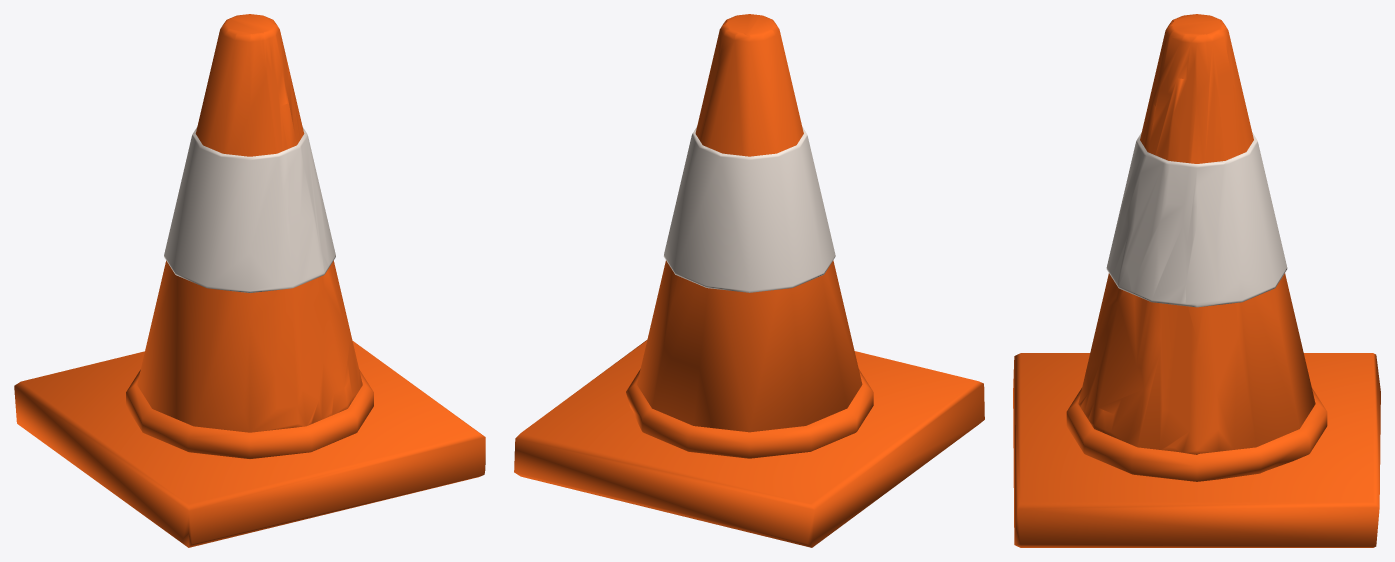
The picture shows the model from 3 angles, left to right: view 1: azimuth 30°, elevation 25°; view 2: azimuth 150°, elevation 25°; view 3: azimuth 270°, elevation 25°; orthographic projection. The views are drawn at different scales.
Visible parts, largest first — view 1: body, object 1; view 2: body, object 1; view 3: body, object 1.
Part boxes in pixels (x1,y1,x2,y2): body: [14, 14, 485, 547]; object 1: [164, 127, 335, 292]; body: [514, 14, 984, 547]; object 1: [663, 127, 835, 292]; body: [1013, 14, 1380, 547]; object 1: [1106, 133, 1287, 307].
Bounding box in the file's own units: 0.48 × 0.646 × 0.48.
